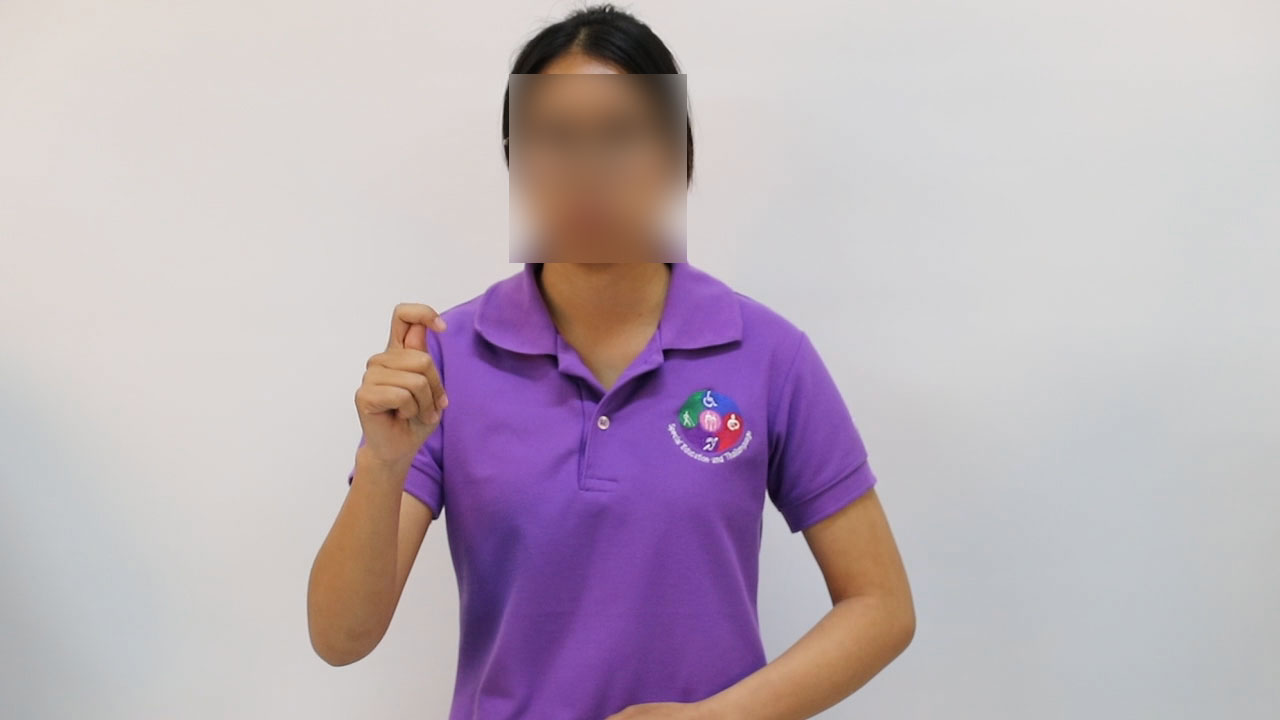or: (346, 295, 456, 481)
